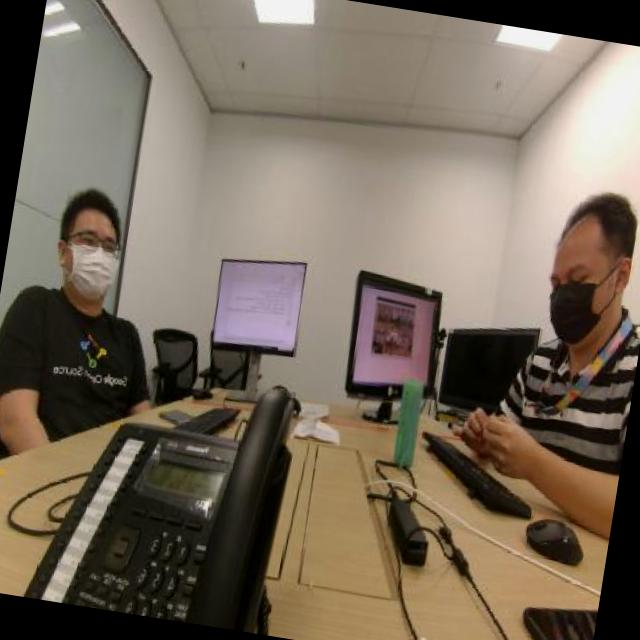Person: (491, 155, 640, 492), (26, 176, 175, 406)
